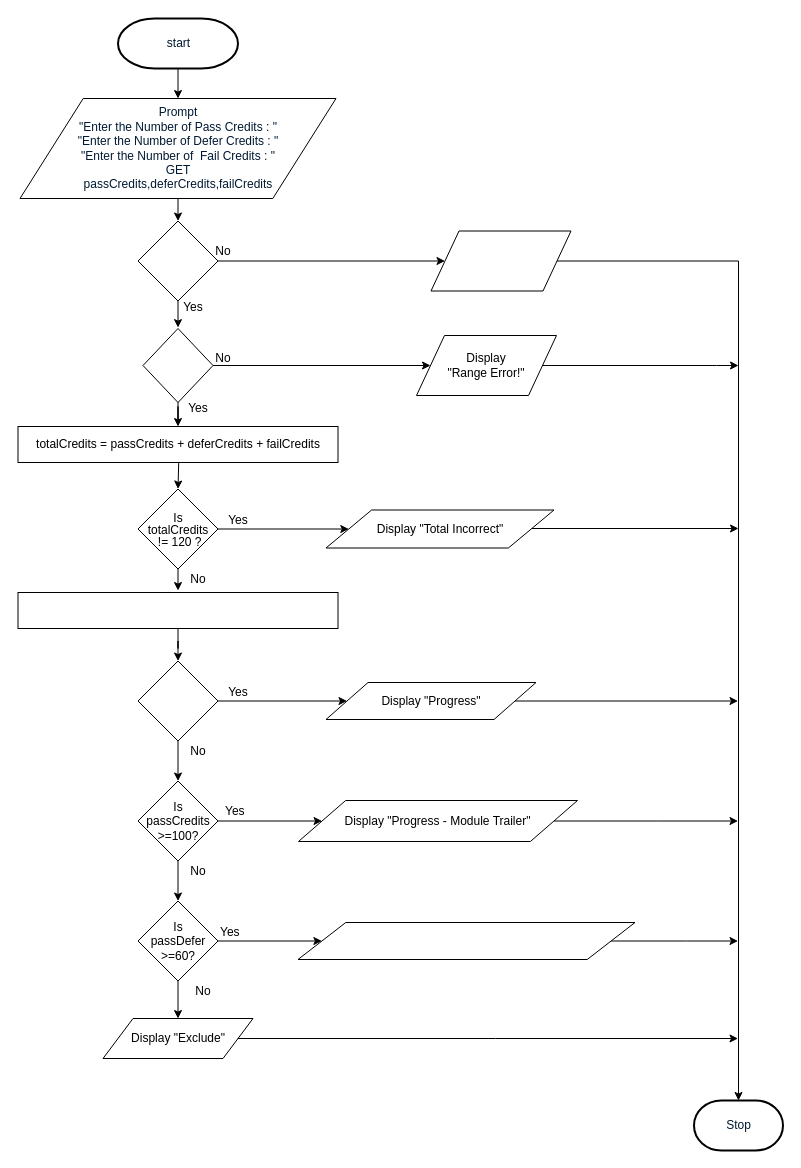
The diagram is 801 pixels wide and 1168 high, and some of its shapes have lost their labels. Each missing label, with the centre of its shape:
Display "Do not Progress - Module Retriever": point 466,941
Display "Integer Required": point 500,260
if inputs are in range?: point 177,365
if inputs are integers?: point 177,260
Is passCredits = 120 ?: point 177,700
passDefer = passCredits + deferCredits: point 177,610
